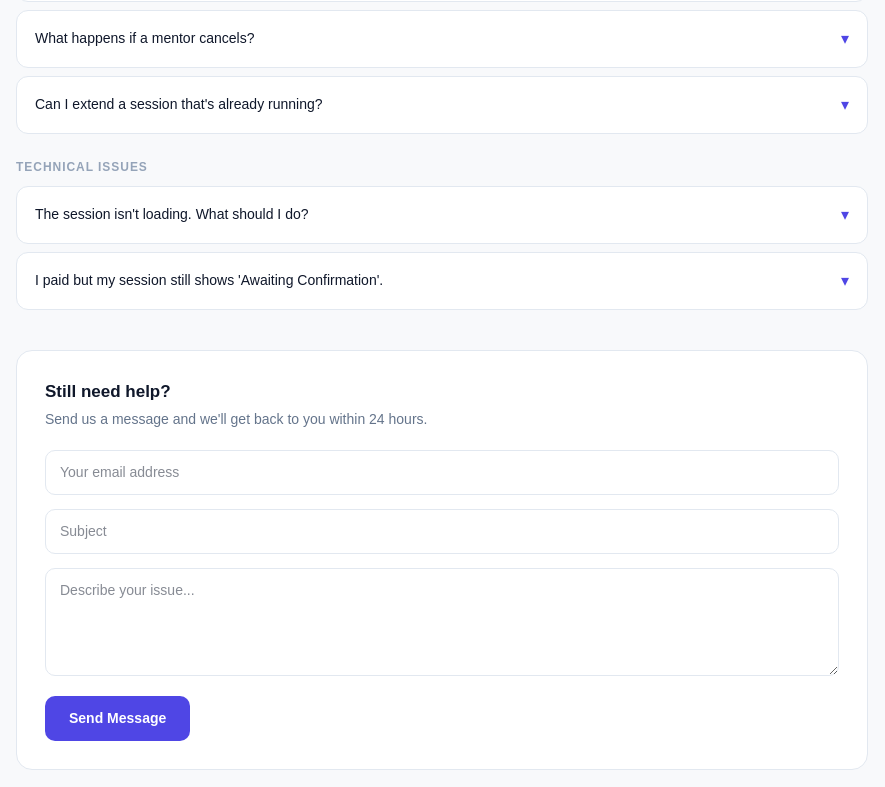
Test: HelpCenter Component Suite › should reset to the form view when 'Send another' is clicked
(page scrolled)
Type "a@b.com" into the field with placeholder "Your email address" at (442, 472), box [45,450,839,494]
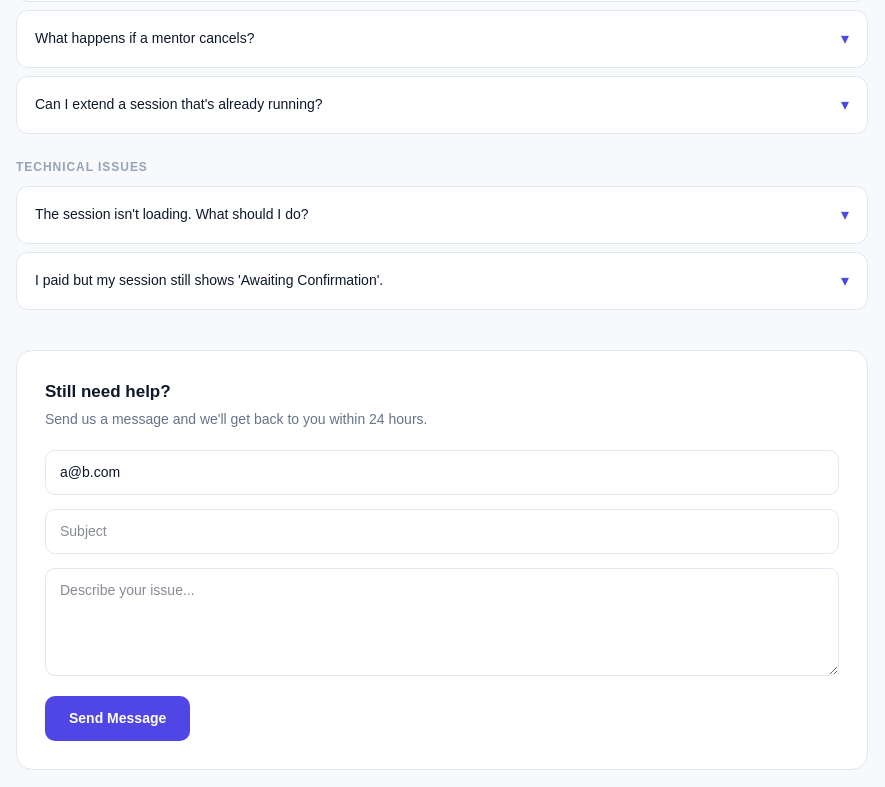
Type "s" into the field with placeholder "Subject" at (442, 531), box [45,508,839,554]
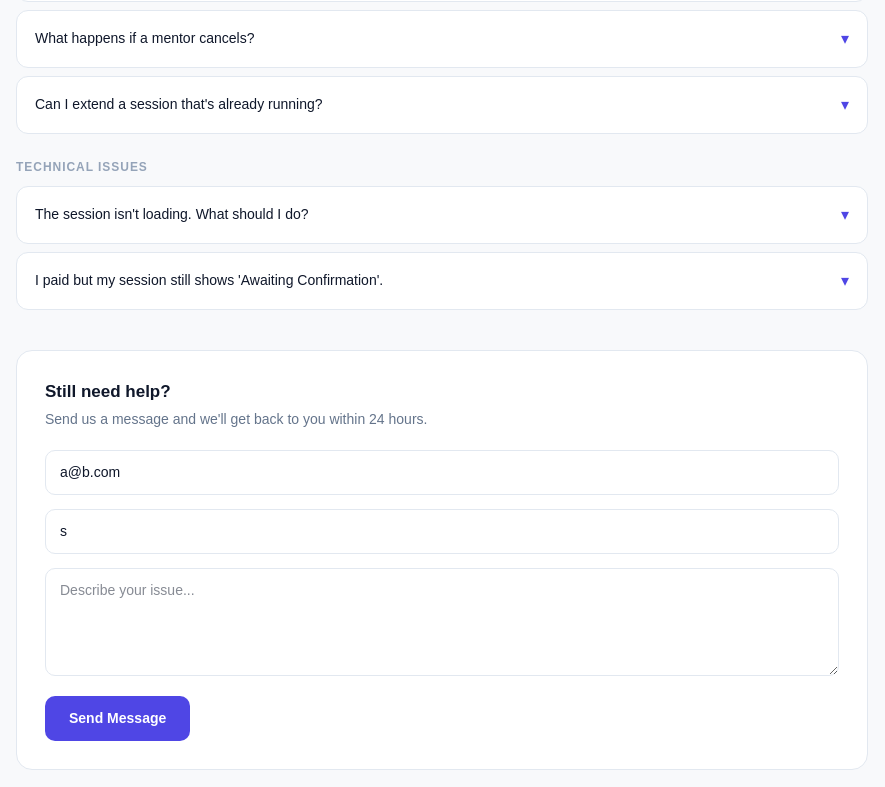
Type "m" into the text box with placeholder "Describe your issue..." at (442, 622), box [45,568,839,676]
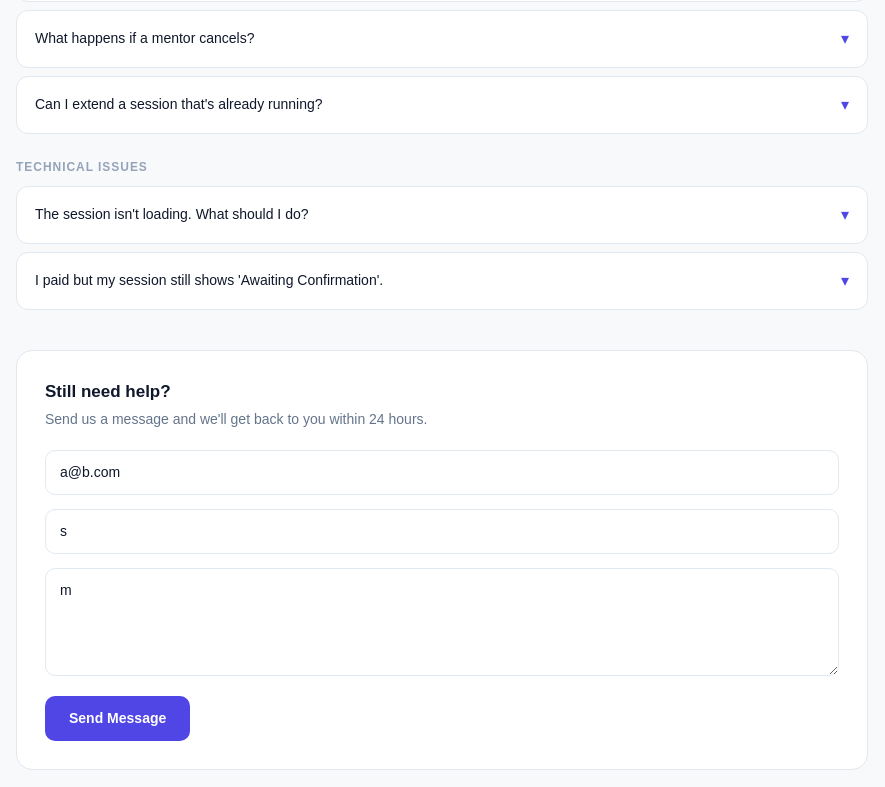
Click the button "Send Message" at (118, 718), box [45,696,190,740]
(page scrolled)
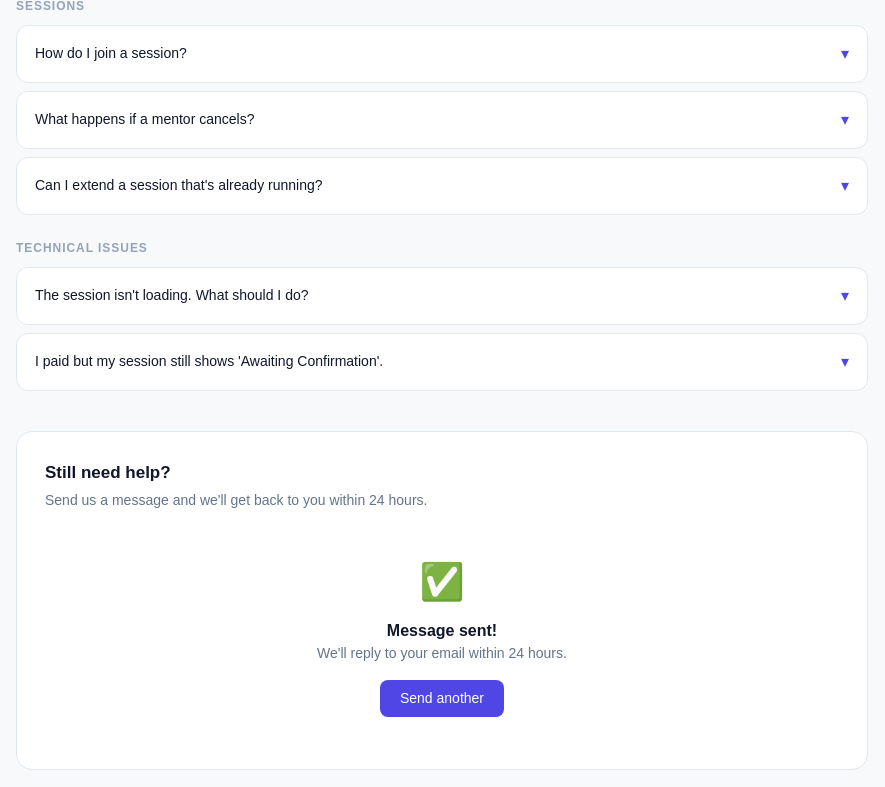
Check: the text "Message sent!" is shown, box [387,622,497,638]
Click the button "Send another" at (442, 698), box [380,680,504,716]
(page scrolled)
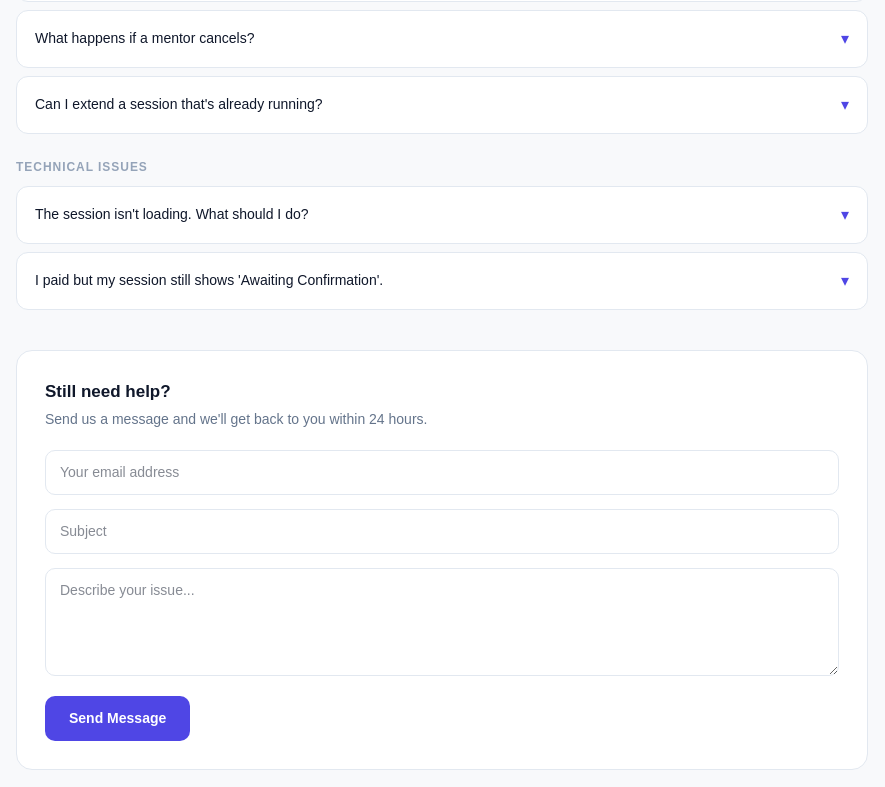
Check: the field with placeholder "Your email address" is shown, box [45,450,839,494]
